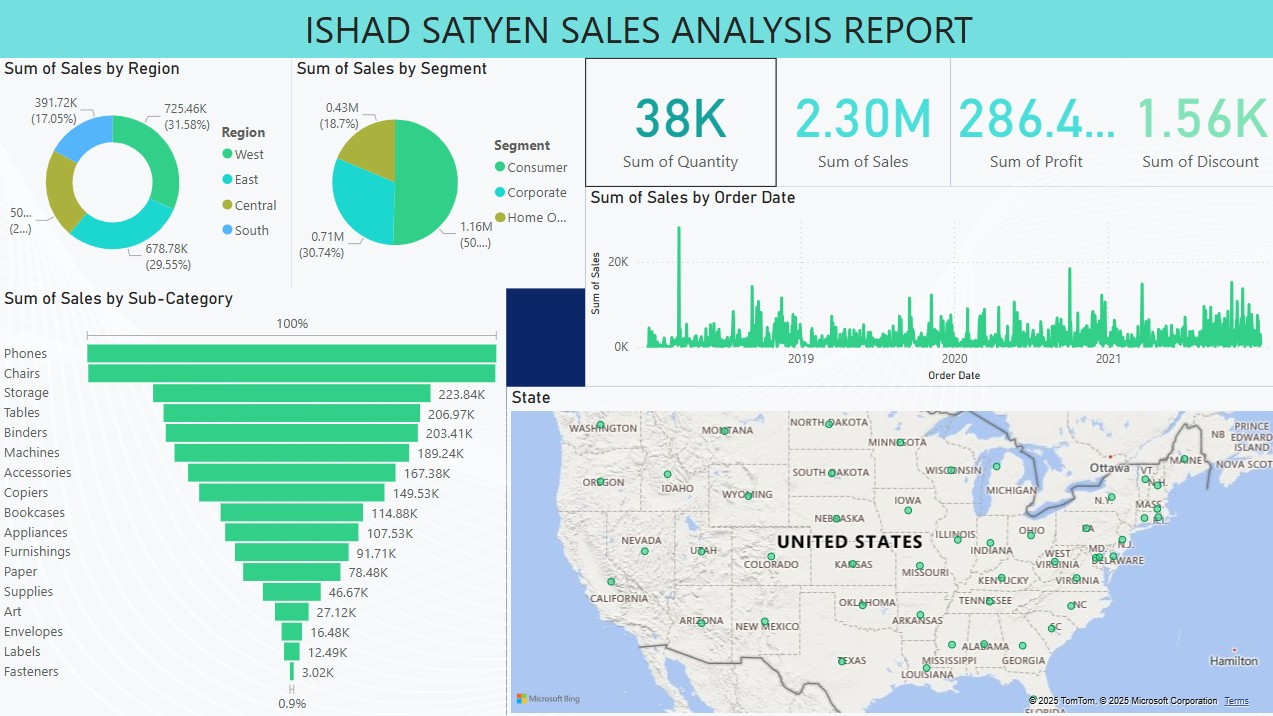

What the dashboard file says about the page in this screenshot:
{"tool":"powerbi","page":{"name":"Page 1","canvas":[1280,720],"ordinal":0},"visuals":[{"type":"donutChart","fields":{"Category":["Orders.Region"],"Y":["Sum(Orders.Sales)"]},"box":[0,60,292.5,230],"z":0},{"type":"funnel","fields":{"Category":["Orders.Sub-Category"],"Y":["Sum(Orders.Sales)"]},"box":[0,290,507.5,430],"z":1},{"type":"map","fields":{"Category":["Orders.State"]},"box":[507.5,388.8,772.5,331.2],"z":2},{"type":"pieChart","fields":{"Category":["Orders.Segment"],"Y":["Sum(Orders.Sales)"]},"box":[292.5,60,293.8,230],"z":3},{"type":"lineChart","fields":{"Category":["Orders.Order Date"],"Y":["Sum(Orders.Sales)"]},"box":[586.2,188.8,693.8,200],"z":4},{"type":"card","fields":{"Values":["Sum(Orders.Sales)"]},"box":[777.5,60,173.8,128.8],"z":5},{"type":"card","fields":{"Values":["Sum(Orders.Profit)"]},"box":[951.2,60,172.5,128.8],"z":6},{"type":"card","fields":{"Values":["Sum(Orders.Discount)"]},"box":[1123.8,60,156.2,128.8],"z":7},{"type":"card","fields":{"Values":["Sum(Orders.Quantity)"]},"box":[586.2,60,191.2,128.8],"z":8},{"type":"textbox","box":[0,0,1280,60],"z":9}]}

Visuals, with their boxes in screenshot pixels (x1, y1, x2, y2), scaled from the page's 1280x720 canvas onto the 1273x716 screenshot:
donutChart - Orders.Region x Sum(Orders.Sales): {"x1": 0, "y1": 60, "x2": 291, "y2": 288}
funnel - Orders.Sub-Category x Sum(Orders.Sales): {"x1": 0, "y1": 288, "x2": 505, "y2": 715}
map - Orders.State: {"x1": 505, "y1": 387, "x2": 1272, "y2": 715}
pieChart - Orders.Segment x Sum(Orders.Sales): {"x1": 291, "y1": 60, "x2": 583, "y2": 288}
lineChart - Orders.Order Date x Sum(Orders.Sales): {"x1": 583, "y1": 188, "x2": 1272, "y2": 387}
card - Sum(Orders.Sales): {"x1": 773, "y1": 60, "x2": 946, "y2": 188}
card - Sum(Orders.Profit): {"x1": 946, "y1": 60, "x2": 1118, "y2": 188}
card - Sum(Orders.Discount): {"x1": 1118, "y1": 60, "x2": 1272, "y2": 188}
card - Sum(Orders.Quantity): {"x1": 583, "y1": 60, "x2": 773, "y2": 188}
textbox: {"x1": 0, "y1": 0, "x2": 1272, "y2": 60}
